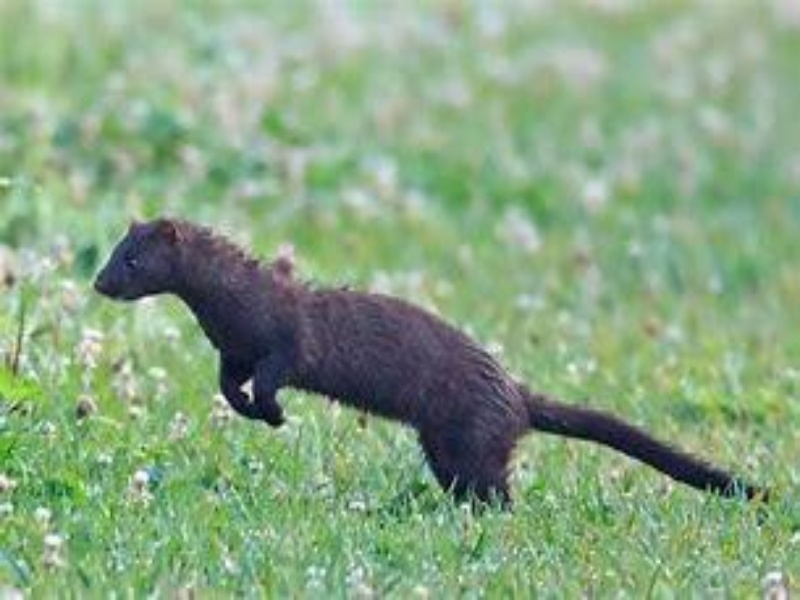minkish: (90, 213, 775, 514)
